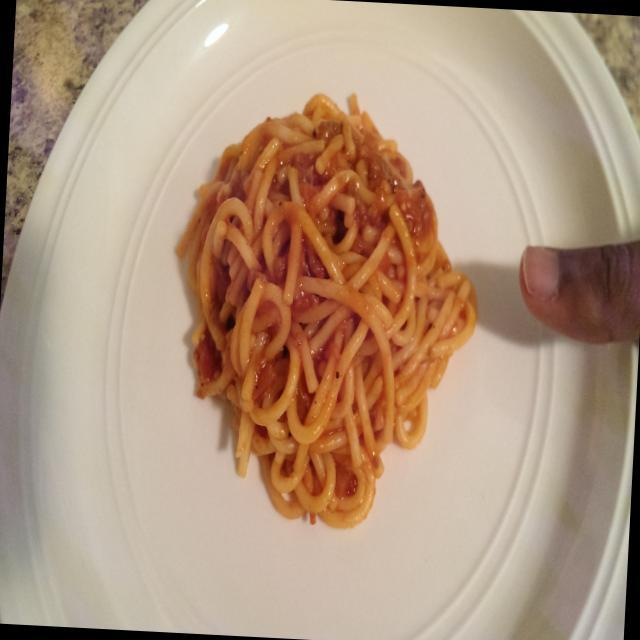Pasta: (122, 66, 501, 554)
